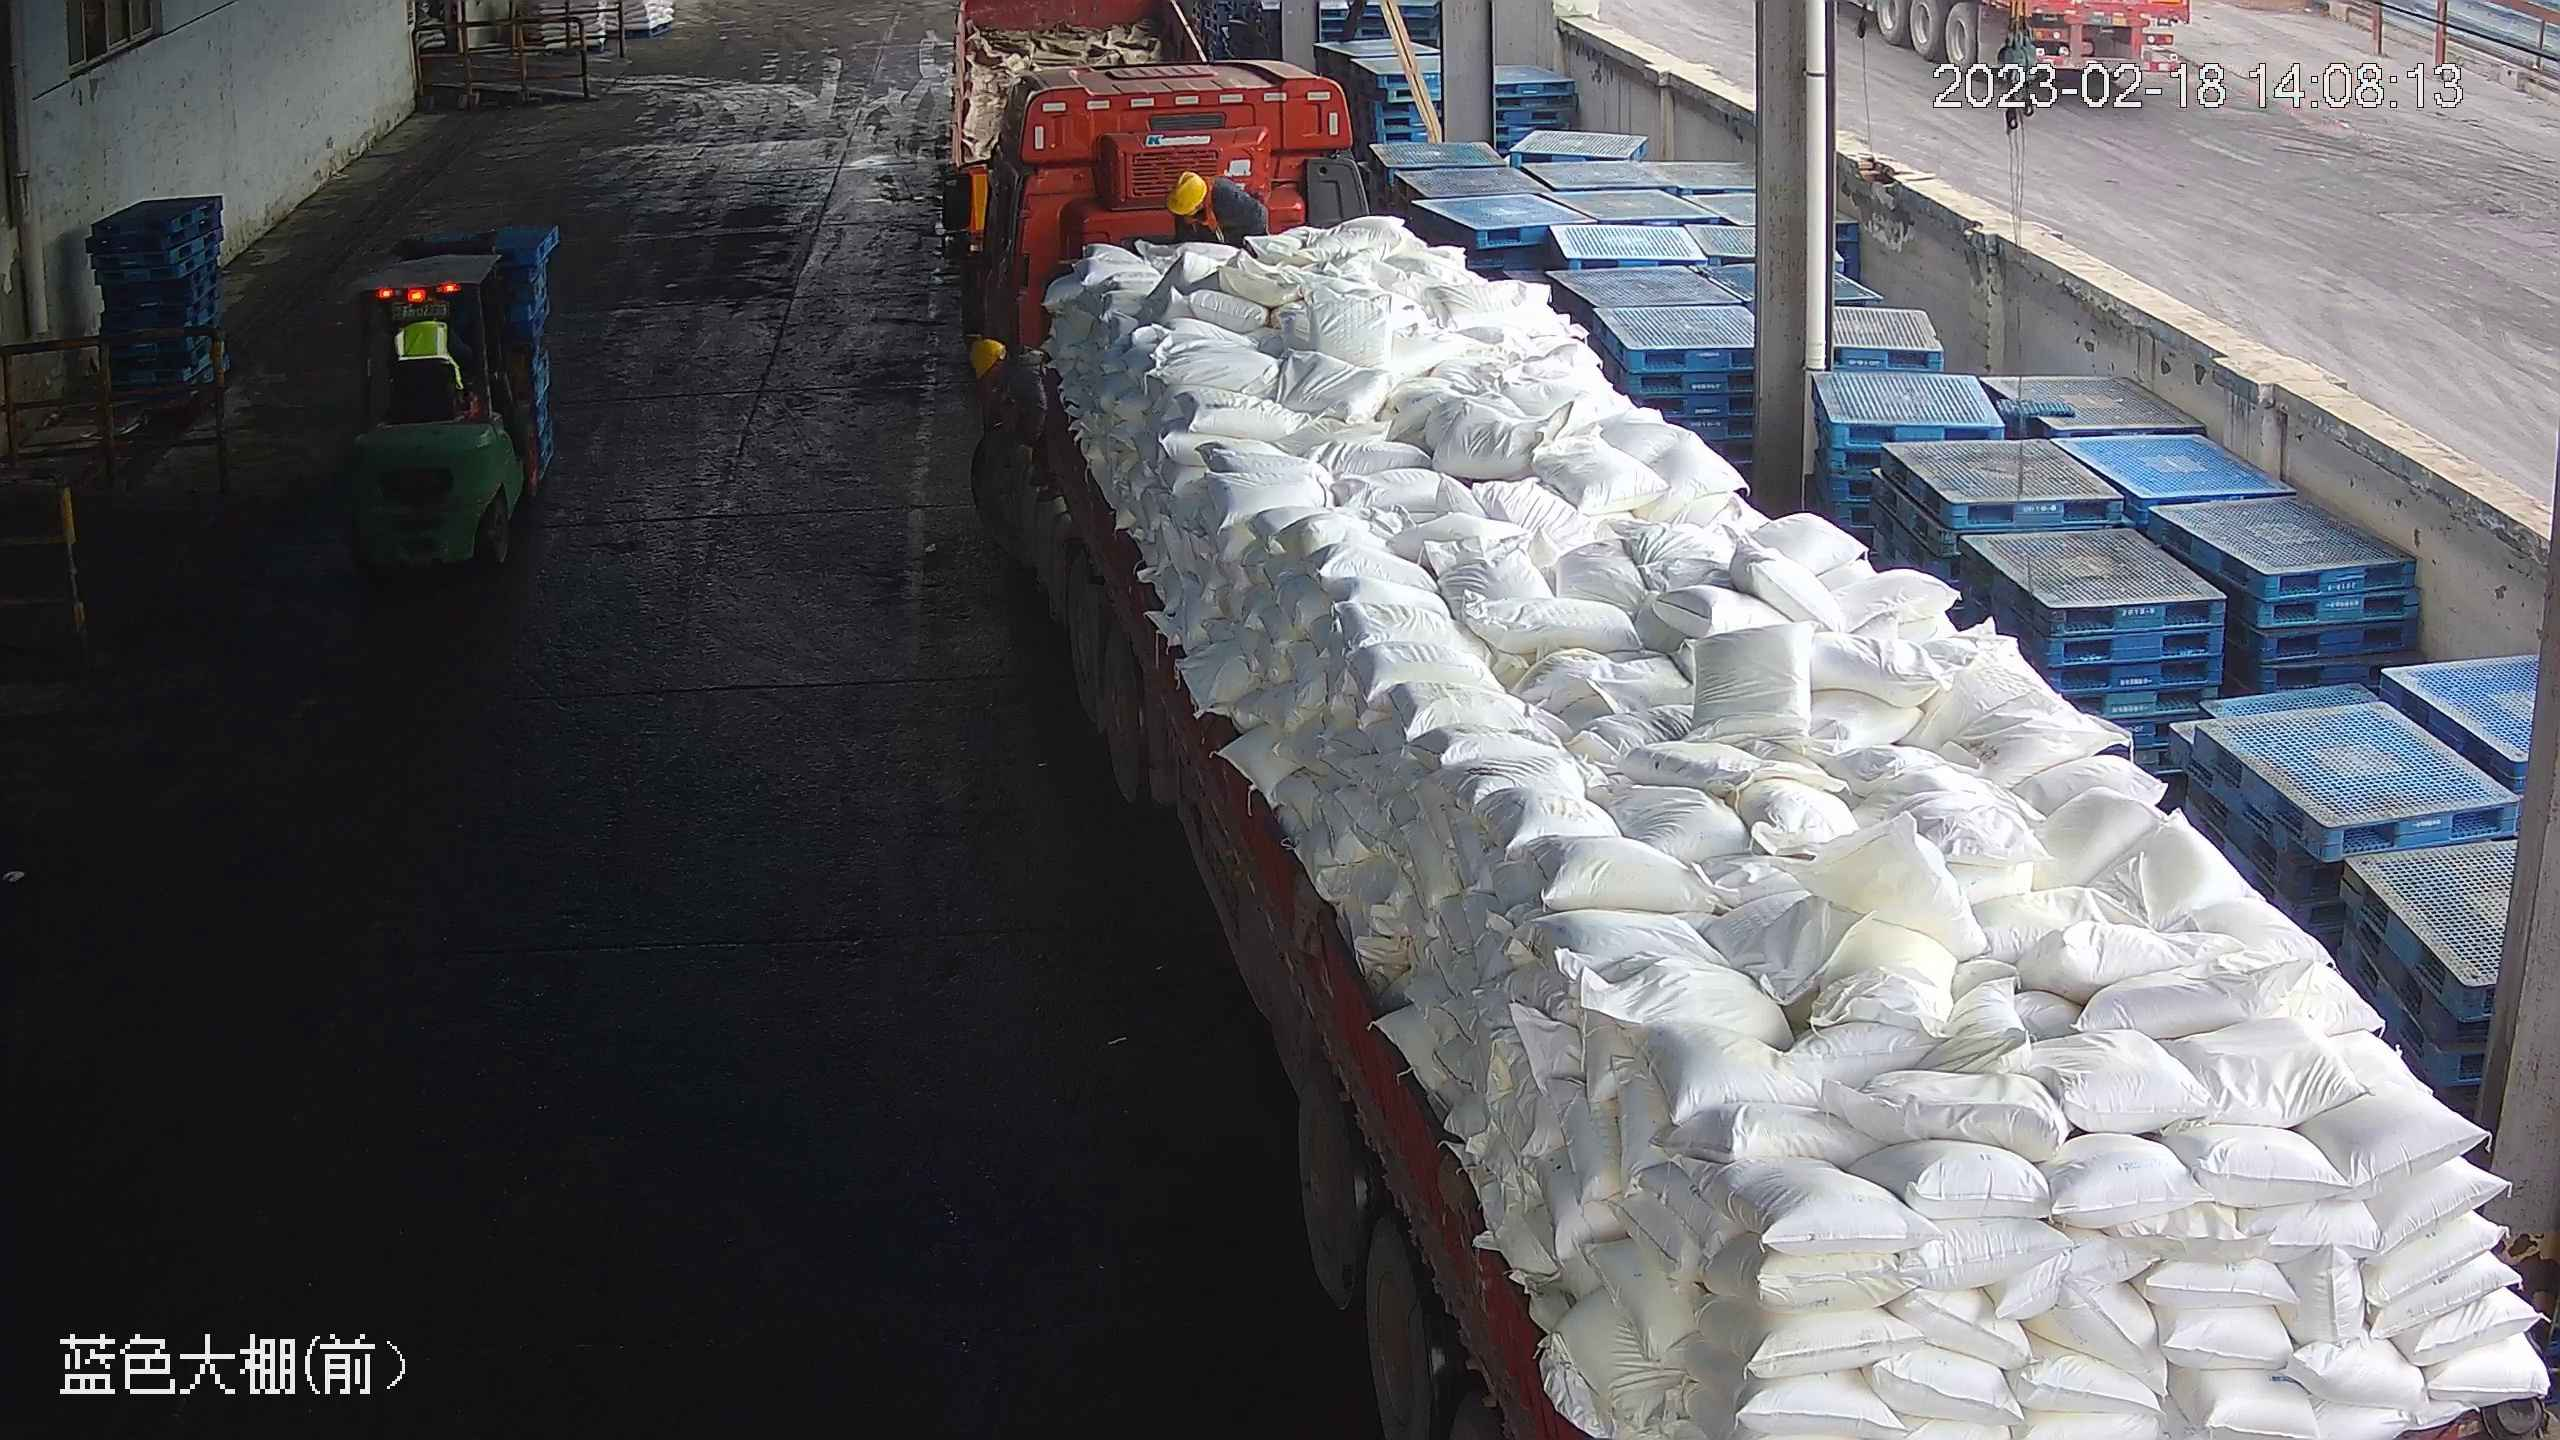belt: (1187, 175, 1230, 235)
head: (966, 335, 1055, 412), (1165, 170, 1243, 239)
helmet: (1165, 171, 1210, 214), (969, 339, 1007, 381)
truck: (940, 61, 2560, 1440)
